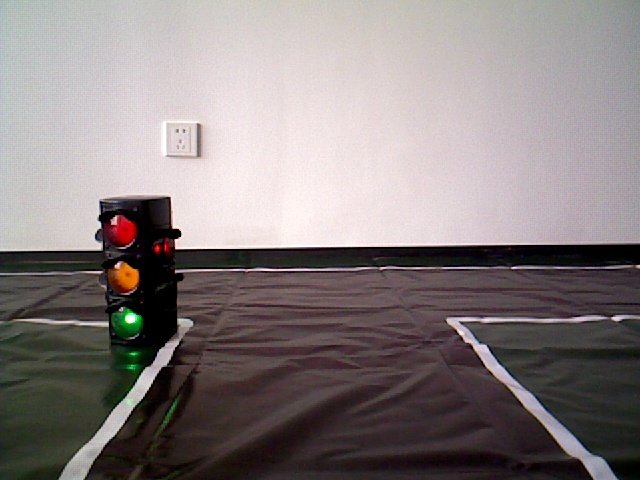green: (101, 198, 171, 335)
